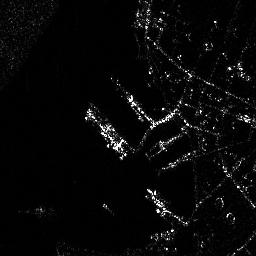ship: (84, 108, 127, 157)
